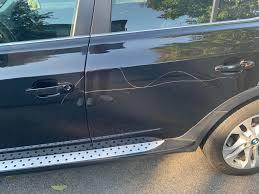scratch: (57, 62, 243, 112)
